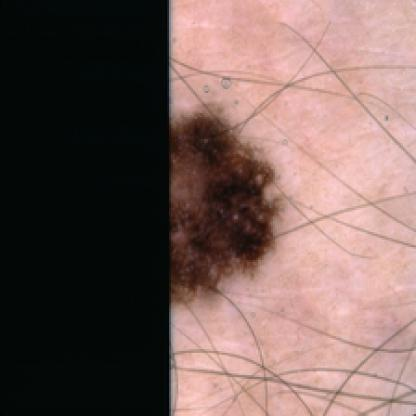malignant: (172, 106, 278, 299)
